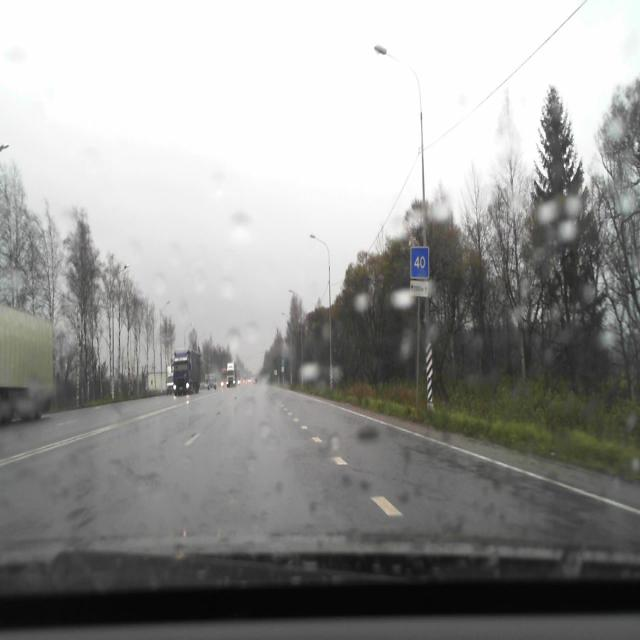road sign: (410, 246, 429, 278), (410, 280, 428, 298)
